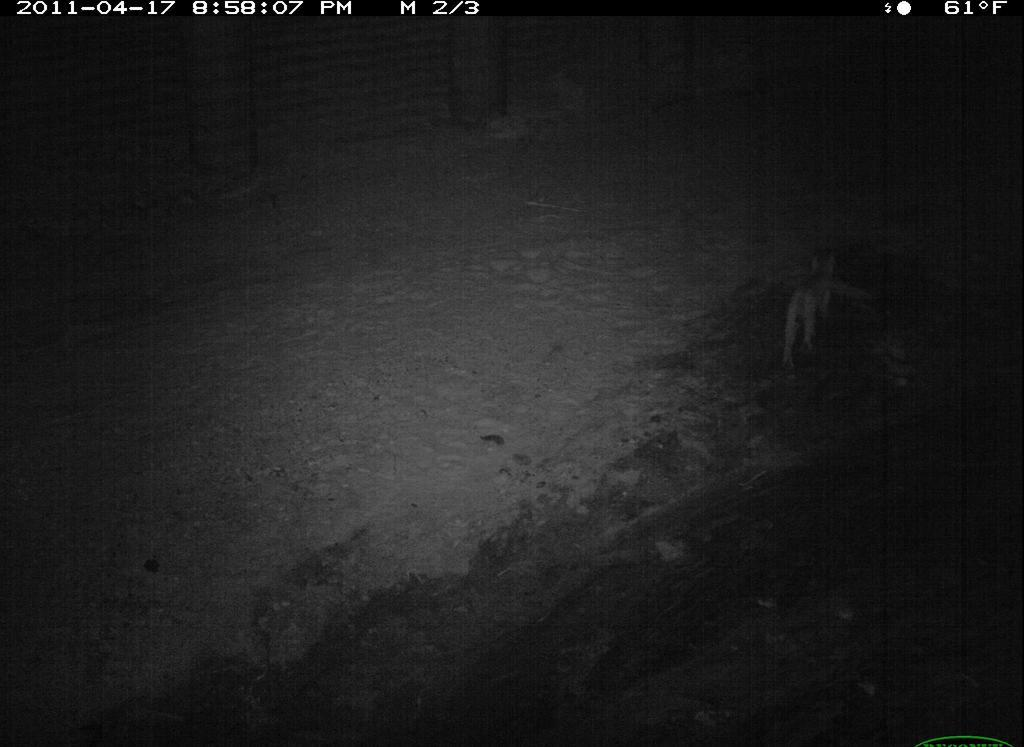bobcat: (774, 242, 849, 377)
